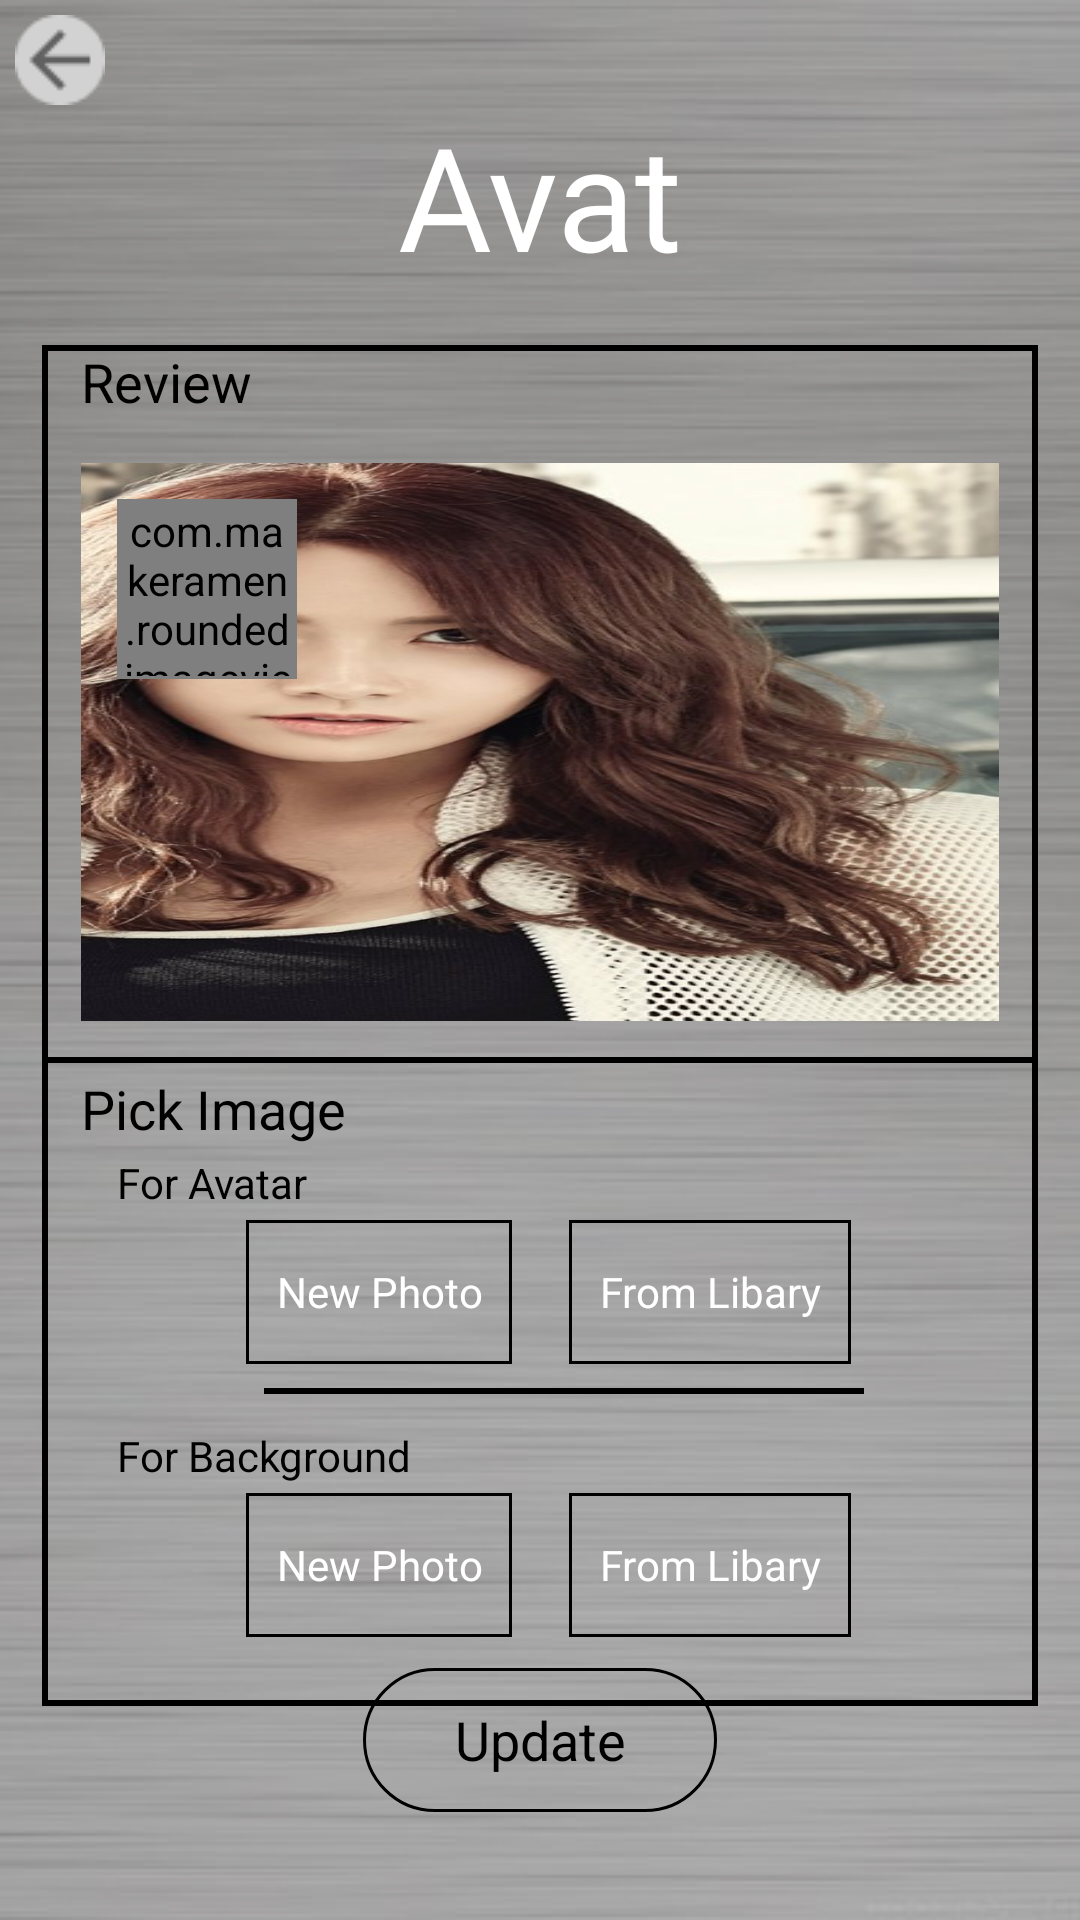

Icons on this 1080×1920 Android screen, each with its box as (x1, y1, x2, y2):
back: (15, 15, 105, 105)
